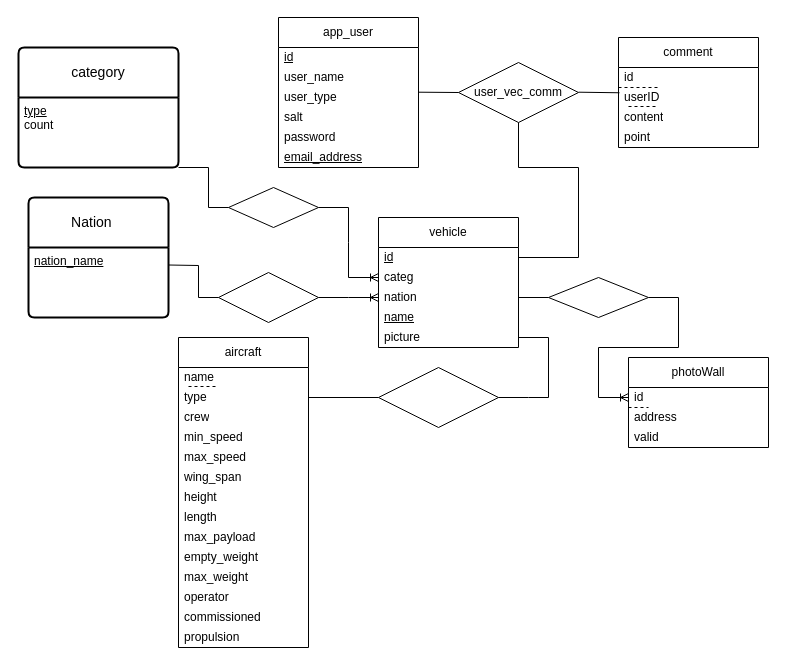
This 786x665 diagram has some shape labels left out. Each missing label, with the centre of its shape:
"cate_of_vec" goes at point 273,207.
"nation_of_vec" goes at point 268,297.
"photos_of_vec" goes at point 598,297.
"specialization" goes at point 438,397.
